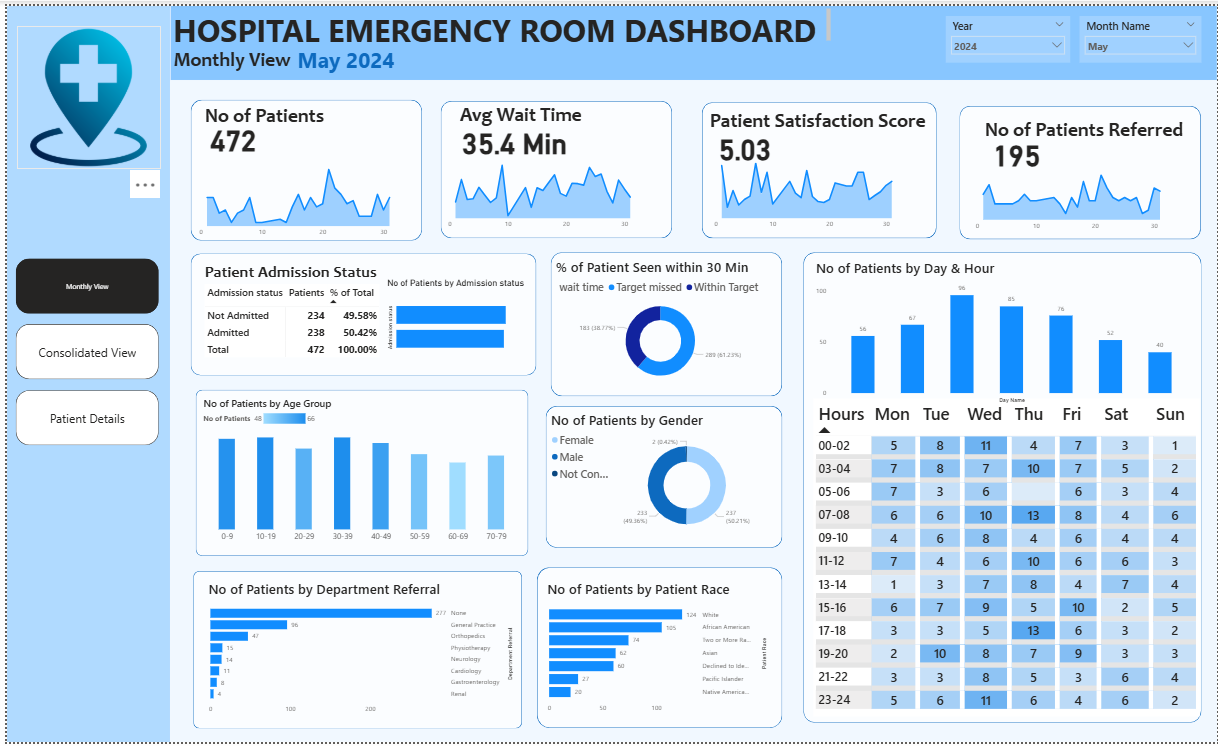

The page's visual inventory and layout, read from the dashboard file:
{"tool":"powerbi","page":{"name":"Monthly View","canvas":[2300,1400],"ordinal":0},"visuals":[{"type":"shape","box":[350.2,471.7,657.3,232],"z":0},{"type":"shape","box":[349.3,177.9,439.8,268.2],"z":1000},{"type":"shape","box":[0,0,310,1400.5],"z":2000},{"type":"shape","box":[310.7,0,1989.8,140.5],"z":3000},{"type":"textbox","box":[310.7,0,1260,78.9],"z":4000},{"type":"textbox","box":[310.7,74,258.9,66.6],"z":5000},{"type":"card","fields":{"Values":["Hospital ER_Data.No of Patients"]},"box":[370.7,219.7,118.4,64.1],"z":6000},{"type":"slicer","fields":{"Values":["Date Table.Year"]},"box":[1785.2,19.7,236.7,88.8],"z":7000},{"type":"slicer","fields":{"Values":["Date Table.Month Name"]},"box":[2039.1,19.7,231.8,88.8],"z":8000},{"type":"textbox","box":[370.7,180.2,246.6,71.5],"z":9000},{"type":"areaChart","fields":{"Category":["Date Table.Date.Variation.Date Hierarchy.Day"],"Y":["Hospital ER_Data.No of Patients"]},"box":[355,285,435,162.5],"z":10000},{"type":"shape","box":[825.3,180.3,439.8,261],"z":11000},{"type":"card","fields":{"Values":["Hospital ER_Data.Avg Wait Time"]},"box":[857.4,222.6,214.5,64.1],"z":12000},{"type":"textbox","box":[854.9,178.2,246.6,71.5],"z":13000},{"type":"areaChart","fields":{"Category":["Date Table.Date.Variation.Date Hierarchy.Day"],"Y":["Avg(Hospital ER_Data.Patient Waittime)"]},"box":[827.5,282.5,417.5,150],"z":14000},{"type":"shape","box":[1320.9,182.2,446.3,258.9],"z":15000},{"type":"card","fields":{"Values":["Hospital ER_Data.satisfaction Score"]},"box":[1330.8,236.4,143,64.1],"z":16000},{"type":"textbox","box":[1330.8,189.6,436.4,71.5],"z":17000},{"type":"areaChart","fields":{"Category":["Date Table.Date.Variation.Date Hierarchy.Day"],"Y":["Hospital ER_Data.satisfaction Score"]},"box":[1335,285,407.5,147.5],"z":18000},{"type":"shape","box":[1812.6,190,459.1,253.7],"z":19000},{"type":"card","fields":{"Values":["Hospital ER_Data.No of Patient Referred"]},"box":[1862.1,246.8,118.4,64.1],"z":20000},{"type":"textbox","box":[1854.7,207.3,404.4,71.5],"z":21000},{"type":"areaChart","fields":{"Category":["Date Table.Date.Variation.Date Hierarchy.Day"],"Y":["Hospital ER_Data.No of Patient Referred"]},"box":[1830,302.5,422.5,135],"z":22000},{"type":"card","fields":{"Values":["Min(Date Table.Month & Year)"]},"box":[527.7,64.1,234.2,76.4],"z":23000},{"type":"pivotTable","title":"Patient Admission Status","fields":{"Rows":["Hospital ER_Data.Admission status"],"Values":["Hospital ER_Data.No of Patients1","Hospital ER_Data.No of Patients"]},"box":[370.4,488.5,638,215.1],"z":24000},{"type":"barChart","fields":{"Category":["Hospital ER_Data.Admission status"],"Y":["Hospital ER_Data.No of Patients"]},"box":[718.4,515.1,290,164.3],"z":25000},{"type":"shape","box":[359,730.7,632.5,316.2],"z":26000},{"type":"clusteredColumnChart","fields":{"Category":["Hospital ER_Data.Age Group"],"Y":["Hospital ER_Data.No of Patients"]},"box":[368.5,742.6,613.5,287.7],"z":27000},{"type":"shape","box":[354.3,1074.7,625.3,299.6],"z":28000},{"type":"clusteredBarChart","fields":{"Category":["Hospital ER_Data.Department Referral"],"Y":["Hospital ER_Data.No of Patients"]},"box":[378.1,1091.4,589.7,263.9],"z":29000},{"type":"shape","box":[1034,468,440,274],"z":30000},{"type":"donutChart","title":"% of Patient Seen within 30 Min","fields":{"Category":["Hospital ER_Data.waittime"],"Y":["Hospital ER_Data.No of Patients"]},"box":[1039.2,478.4,407.8,249],"z":31000},{"type":"shape","box":[1024,760,450,270],"z":32000},{"type":"donutChart","title":"No of Patients by Gender","fields":{"Y":["Hospital ER_Data.No of Patients"],"Category":["Hospital ER_Data.Patient Gender"]},"box":[1029.3,770.6,407.8,249],"z":33000},{"type":"shape","box":[1007.8,1068.6,466.7,305.9],"z":34000},{"type":"clusteredBarChart","fields":{"Y":["Hospital ER_Data.No of Patients"],"Category":["Hospital ER_Data.Patient Race"]},"box":[1023.5,1090.2,429.4,262.7],"z":35000},{"type":"shape","box":[1515,467.5,757.5,895],"z":36000},{"type":"pivotTable","fields":{"Rows":["Hospital ER_Data.Waittime Interval"],"Columns":["Date Table.Day Name"],"Values":["Hospital ER_Data.No of Patients"]},"box":[1532.5,747.5,735,605],"z":37000},{"type":"columnChart","title":"No of Patients by Day & Hour","fields":{"Category":["Date Table.Day Name"],"Y":["Hospital ER_Data.No of Patients"]},"box":[1532.5,480,727.5,280],"z":38000},{"type":"image","box":[20,37.5,272.5,272.5],"z":39000},{"type":"pageNavigator","box":[17.5,480,272.5,357.5],"z":40000}]}

Visuals, with their boxes on the page's 2300x1400 design canvas (x1, y1, x2, y2). These are canvas units, not pixel positions in the 1218x746 screenshot, which may show the page scaled, cropped or inside an application window:
shape: <region>350, 472, 1008, 704</region>
shape: <region>349, 178, 789, 446</region>
shape: <region>0, 0, 310, 1400</region>
shape: <region>311, 0, 2300, 140</region>
textbox: <region>311, 0, 1571, 79</region>
textbox: <region>311, 74, 570, 141</region>
card - Hospital ER_Data.No of Patients: <region>371, 220, 489, 284</region>
slicer - Date Table.Year: <region>1785, 20, 2022, 108</region>
slicer - Date Table.Month Name: <region>2039, 20, 2271, 108</region>
textbox: <region>371, 180, 617, 252</region>
areaChart - Date Table.Date.Variation.Date Hierarchy.Day x Hospital ER_Data.No of Patients: <region>355, 285, 790, 448</region>
shape: <region>825, 180, 1265, 441</region>
card - Hospital ER_Data.Avg Wait Time: <region>857, 223, 1072, 287</region>
textbox: <region>855, 178, 1102, 250</region>
areaChart - Date Table.Date.Variation.Date Hierarchy.Day x Avg(Hospital ER_Data.Patient Waittime): <region>828, 282, 1245, 432</region>
shape: <region>1321, 182, 1767, 441</region>
card - Hospital ER_Data.satisfaction Score: <region>1331, 236, 1474, 300</region>
textbox: <region>1331, 190, 1767, 261</region>
areaChart - Date Table.Date.Variation.Date Hierarchy.Day x Hospital ER_Data.satisfaction Score: <region>1335, 285, 1742, 432</region>
shape: <region>1813, 190, 2272, 444</region>
card - Hospital ER_Data.No of Patient Referred: <region>1862, 247, 1980, 311</region>
textbox: <region>1855, 207, 2259, 279</region>
areaChart - Date Table.Date.Variation.Date Hierarchy.Day x Hospital ER_Data.No of Patient Referred: <region>1830, 302, 2252, 438</region>
card - Min(Date Table.Month & Year): <region>528, 64, 762, 140</region>
"Patient Admission Status" pivotTable: <region>370, 488, 1008, 704</region>
barChart - Hospital ER_Data.Admission status x Hospital ER_Data.No of Patients: <region>718, 515, 1008, 679</region>
shape: <region>359, 731, 992, 1047</region>
clusteredColumnChart - Hospital ER_Data.Age Group x Hospital ER_Data.No of Patients: <region>368, 743, 982, 1030</region>
shape: <region>354, 1075, 980, 1374</region>
clusteredBarChart - Hospital ER_Data.Department Referral x Hospital ER_Data.No of Patients: <region>378, 1091, 968, 1355</region>
shape: <region>1034, 468, 1474, 742</region>
"% of Patient Seen within 30 Min" donutChart: <region>1039, 478, 1447, 727</region>
shape: <region>1024, 760, 1474, 1030</region>
"No of Patients by Gender" donutChart: <region>1029, 771, 1437, 1020</region>
shape: <region>1008, 1069, 1474, 1374</region>
clusteredBarChart - Hospital ER_Data.No of Patients x Hospital ER_Data.Patient Race: <region>1024, 1090, 1453, 1353</region>
shape: <region>1515, 468, 2272, 1362</region>
pivotTable - Hospital ER_Data.Waittime Interval x Date Table.Day Name: <region>1532, 748, 2268, 1352</region>
"No of Patients by Day & Hour" columnChart: <region>1532, 480, 2260, 760</region>
image: <region>20, 38, 292, 310</region>
pageNavigator: <region>18, 480, 290, 838</region>
